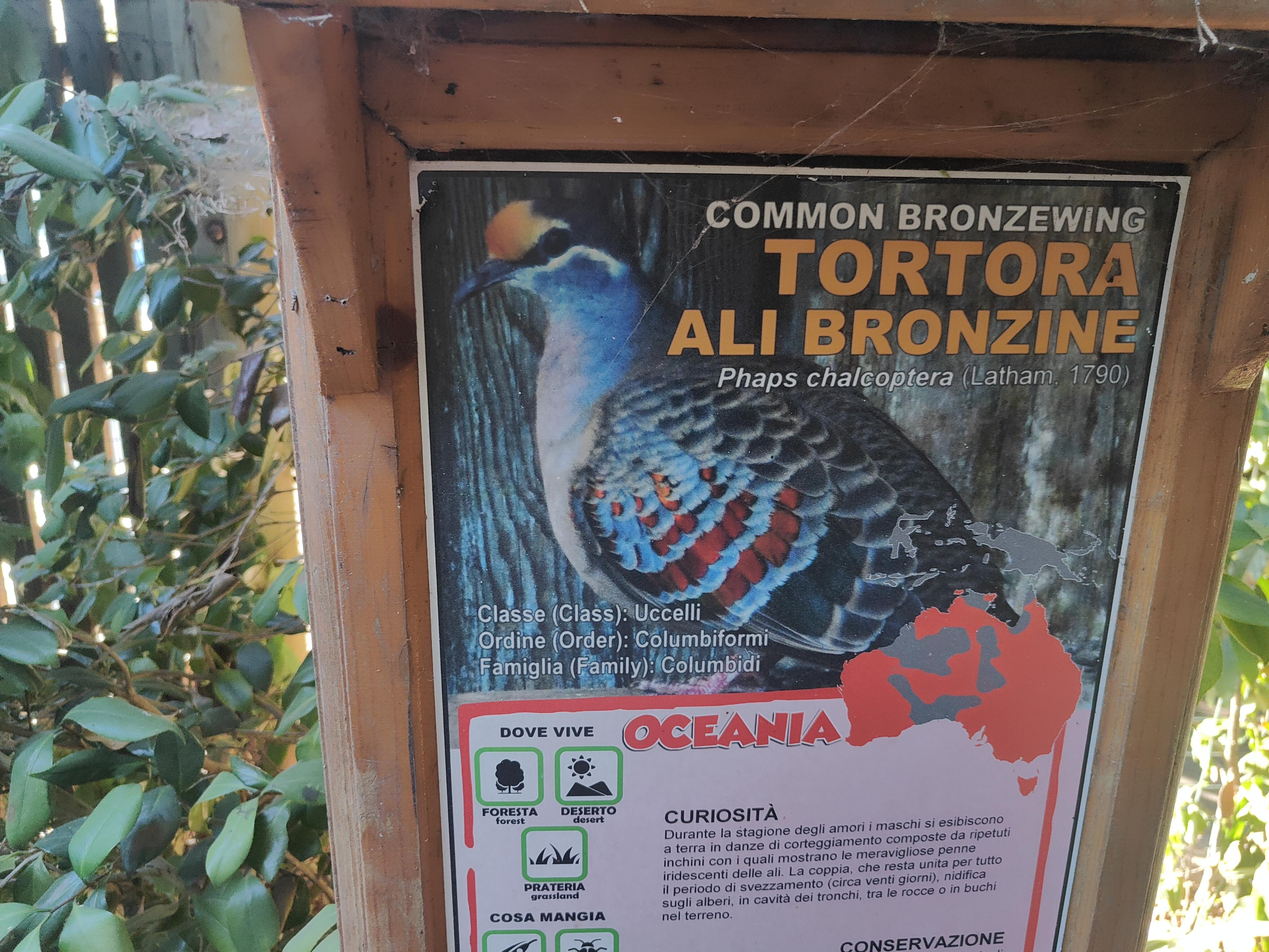apple: (452, 200, 1020, 696)
